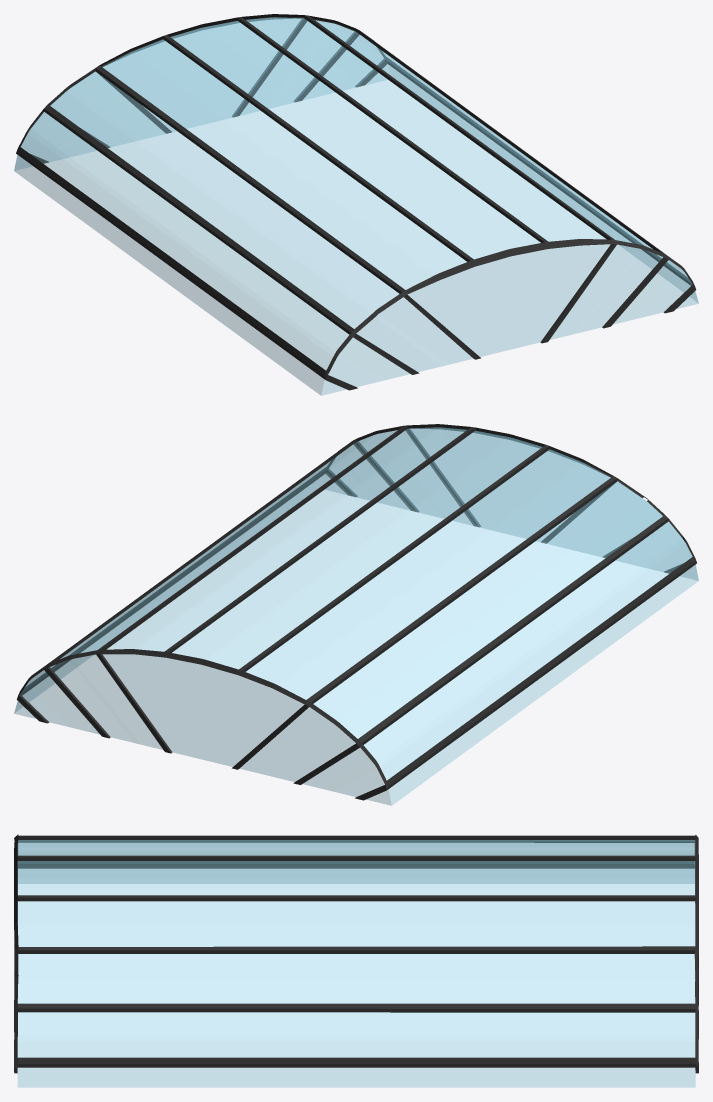
File: Toit.glb
The picture shows the model from 3 angles, top to bottom: view 1: azimuth 30°, elevation 25°; view 2: azimuth 150°, elevation 25°; view 3: azimuth 270°, elevation 25°; orthographic projection. The views are drawn at different scales.
Parts seen in each view (by area): view 1: Cube.009; view 2: Cube.009; view 3: Cube.009.
Boxes of the visible parts, x1=… form: Cube.009: x1=14, y1=14, x2=698, y2=395; Cube.009: x1=14, y1=424, x2=698, y2=805; Cube.009: x1=14, y1=834, x2=698, y2=1087.
Bounding box in the file's own units: 7.06 × 1.8 × 10.04.
